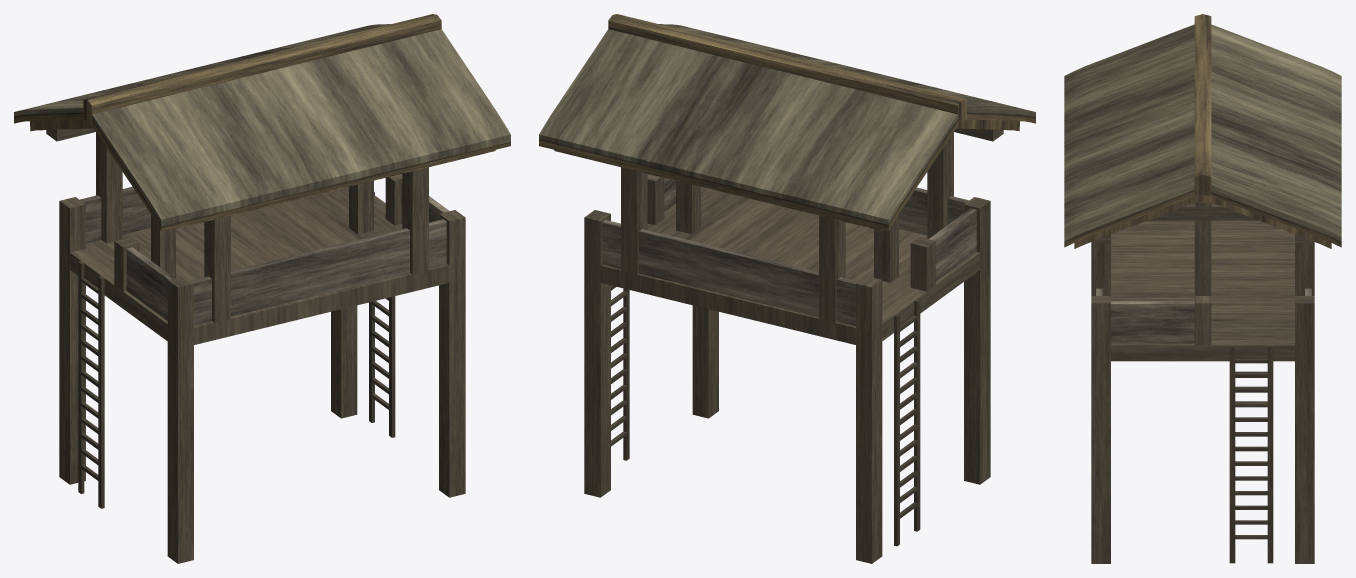
Rendered from BgMD_Akimoto_LOD_Turret.fbx.
The picture shows the model from 3 angles, left to right: view 1: azimuth 30°, elevation 25°; view 2: azimuth 150°, elevation 25°; view 3: azimuth 270°, elevation 25°; orthographic projection. The views are drawn at different scales.
Parts seen in each view (by area): view 1: BgMD_Akimoto_Turret_LOD; view 2: BgMD_Akimoto_Turret_LOD; view 3: BgMD_Akimoto_Turret_LOD.
Boxes of the visible parts, box(x1,y1,x2,y2) form: BgMD_Akimoto_Turret_LOD: box(14, 14, 510, 563); BgMD_Akimoto_Turret_LOD: box(539, 14, 1035, 563); BgMD_Akimoto_Turret_LOD: box(1064, 14, 1341, 563).
Bounding box in the file's own units: 851 × 996 × 621.
